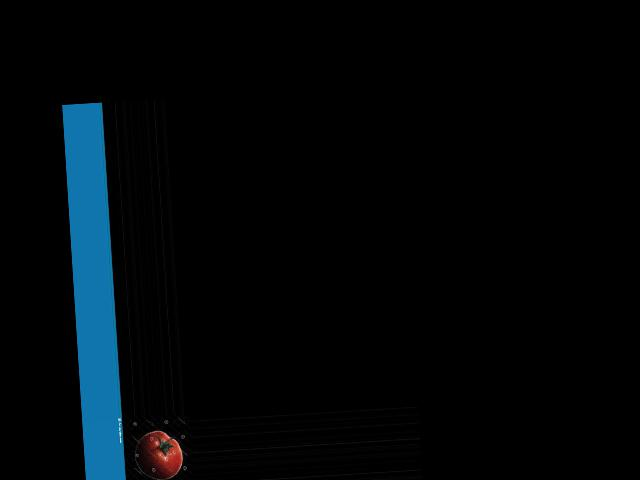tomato: (133, 429, 183, 480)
